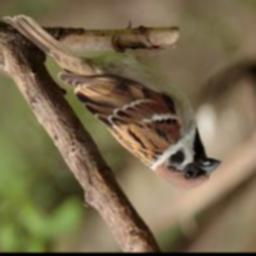Sparrow: (3, 10, 224, 194)
